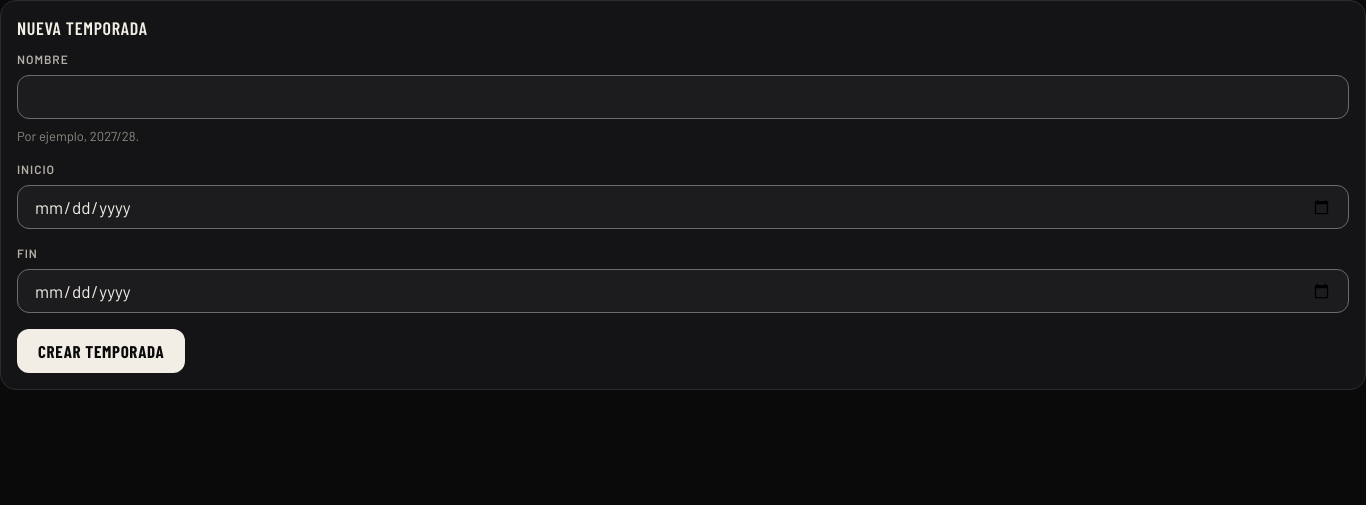
Test: SeasonEditor · una temporada nueva › un error de campo se quita al enviar de nuevo
This screenshot has width=1366, height=505.
Click the button "Crear temporada".
click(101, 351)  # box [17,329,185,373]
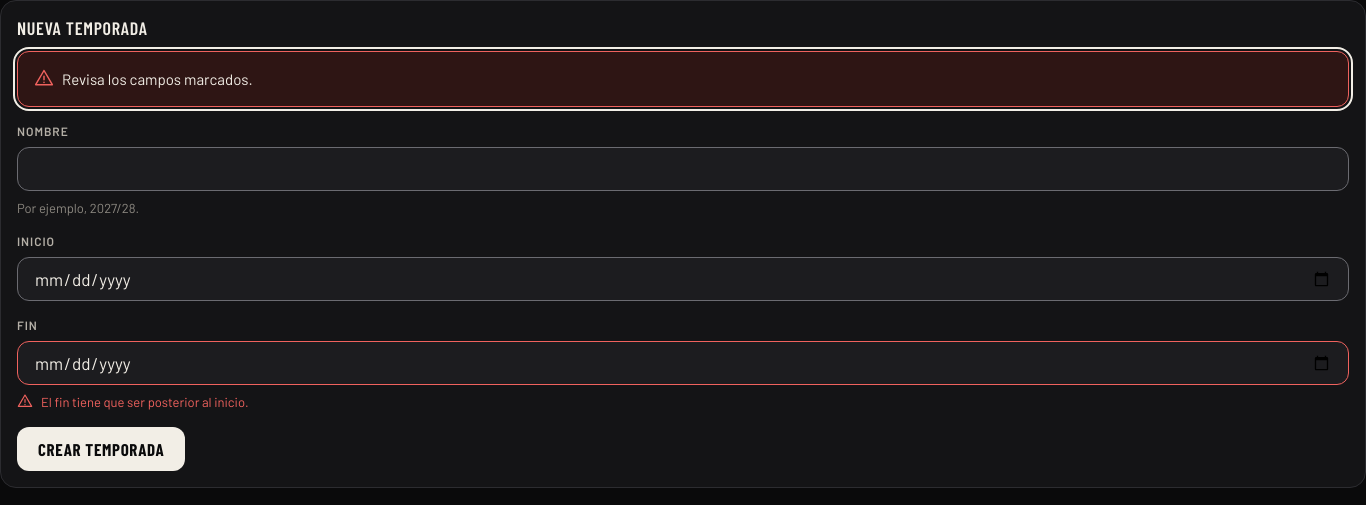
Expected: the text "El fin tiene que ser posterior al inicio." is shown, [17,393,248,410]
Click the button "Crear temporada".
click(101, 449)  # box [17,427,185,471]
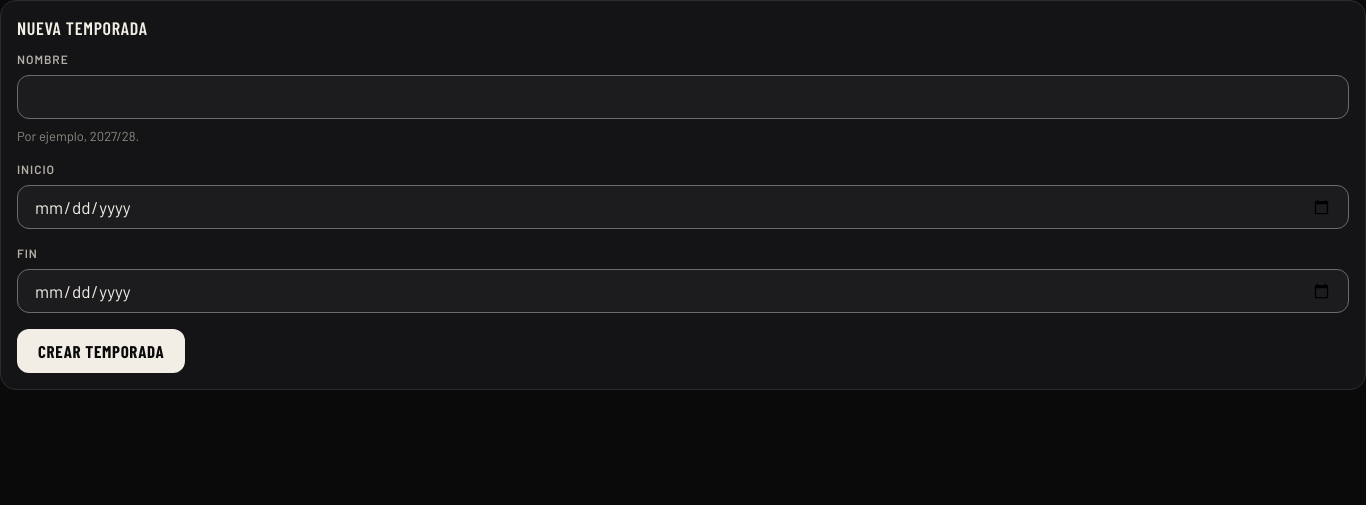
Expected: the text "El fin tiene que ser posterior al inicio." is gone
Expected: the text "Revisa los campos marcados." is gone
